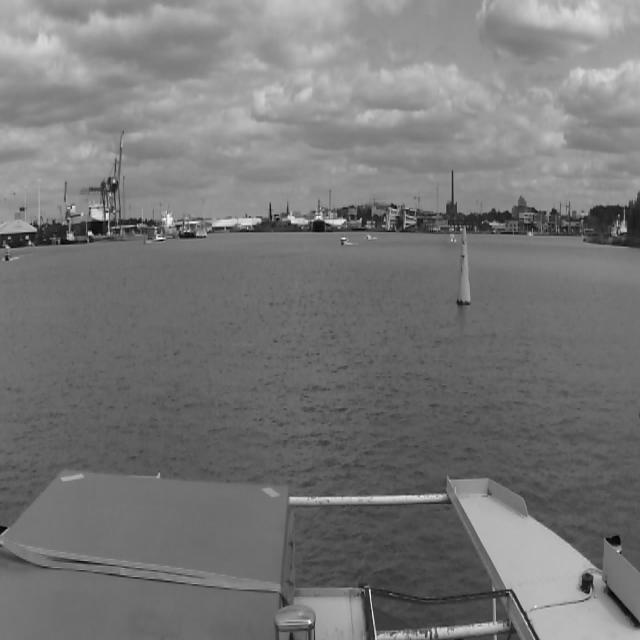buoy: (455, 228, 473, 305)
ship: (58, 224, 91, 245), (313, 196, 327, 236), (339, 234, 348, 248), (449, 238, 454, 244), (452, 237, 456, 243)
